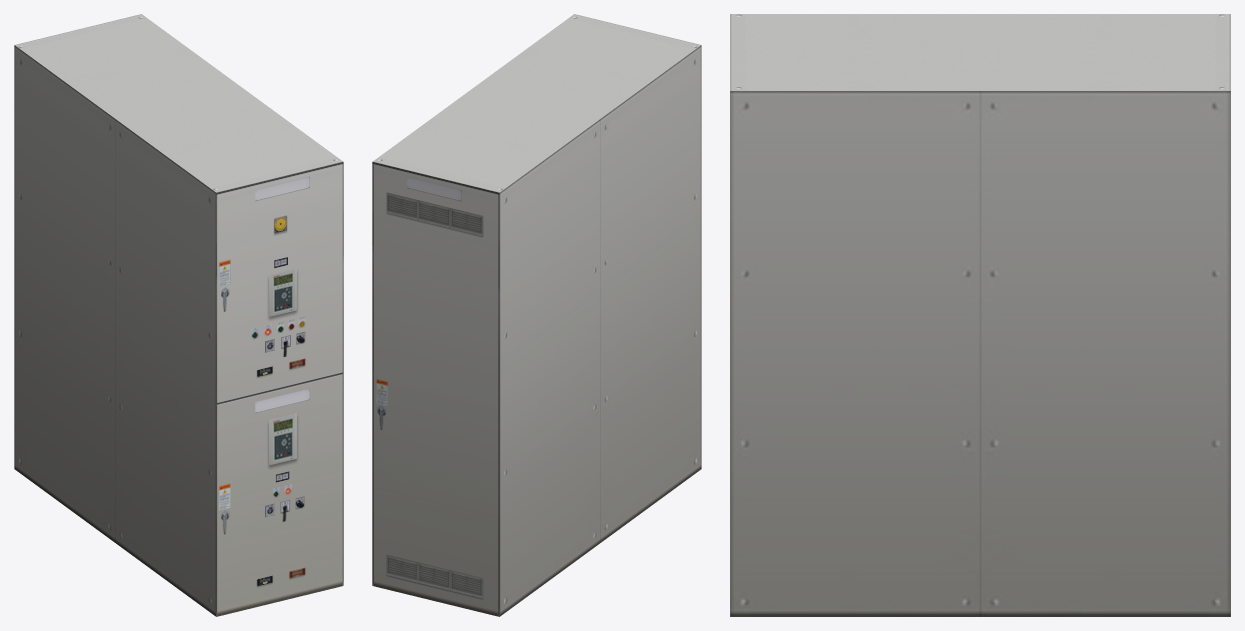
3 views of the same model, side by side, from view 1: azimuth 30°, elevation 25°; view 2: azimuth 150°, elevation 25°; view 3: azimuth 270°, elevation 25° (orthographic). The views are drawn at different scales.
Visible parts, largest first — view 1: LV-2D13; view 2: LV-2D13; view 3: LV-2D13.
Boxes of the visible parts, x1,y1,x2,y2 form: LV-2D13: [14, 14, 343, 616]; LV-2D13: [372, 14, 701, 616]; LV-2D13: [730, 14, 1230, 616].
Size of the model in its own units: 0.8 by 2.55 by 2.2.
1 material, 1 textured.
